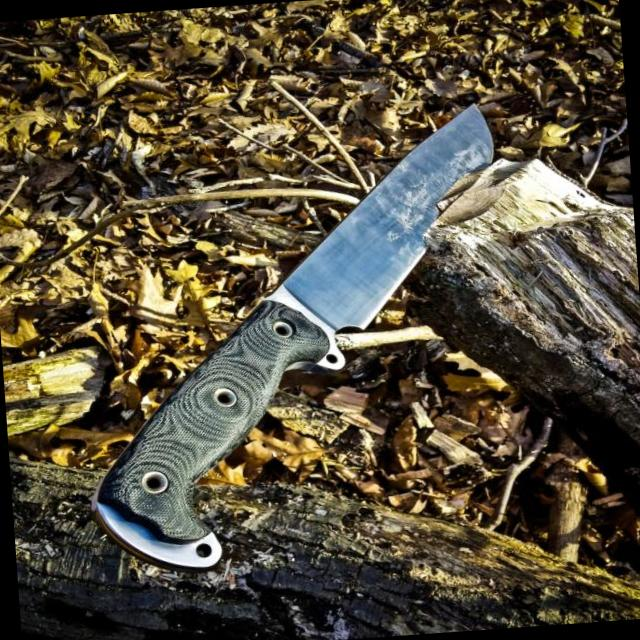Knife: (93, 105, 491, 568)
